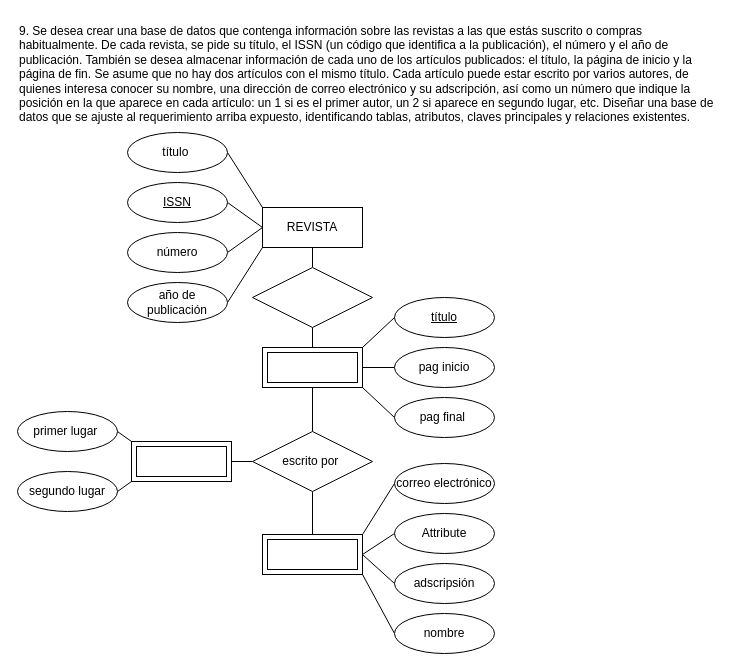
Image size: 735x671. Some labels were removed from this diagram. The box of each missing label's shape, as (x1, y1, x2, y2) in pixels:
ARTÍCULOS: (262, 346, 362, 388)
AUTORES: (262, 534, 362, 574)
posición: (130, 440, 232, 482)
publicados: (252, 266, 372, 328)
